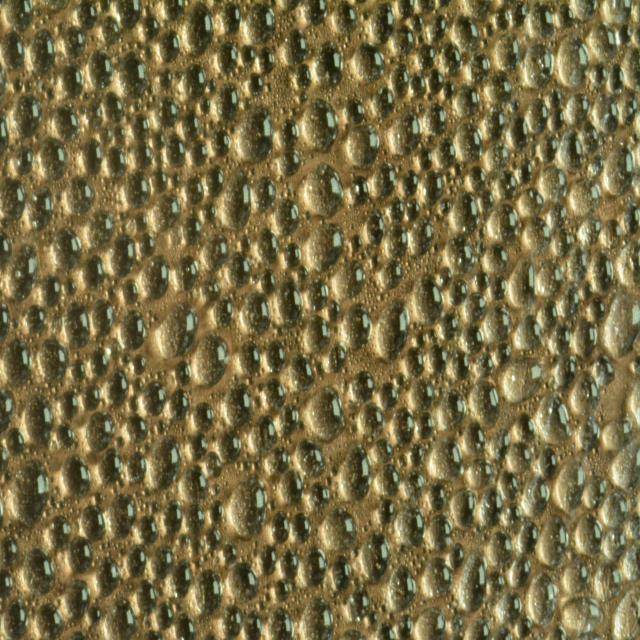dr: (604, 287, 639, 359), (230, 476, 269, 540), (13, 458, 50, 522), (158, 303, 198, 359), (190, 332, 230, 387), (304, 164, 344, 217), (375, 301, 410, 361), (238, 105, 274, 163), (306, 222, 346, 274), (308, 387, 346, 441), (302, 98, 339, 152), (458, 550, 488, 614), (535, 391, 571, 444), (182, 1, 215, 57), (502, 358, 544, 402), (340, 445, 372, 502), (7, 244, 38, 302), (222, 172, 253, 230), (537, 515, 570, 568), (150, 436, 182, 490), (557, 459, 587, 515), (559, 34, 590, 88), (360, 531, 392, 583), (603, 144, 634, 197), (347, 122, 381, 170), (321, 507, 357, 552), (610, 435, 640, 489), (341, 302, 373, 352), (562, 597, 606, 633), (428, 436, 462, 482), (24, 393, 54, 445), (104, 596, 139, 640), (24, 548, 56, 596), (412, 276, 444, 324), (388, 111, 422, 156), (528, 573, 556, 627), (301, 595, 334, 640), (315, 40, 344, 91), (51, 226, 83, 272), (239, 290, 271, 336), (614, 584, 640, 640), (244, 3, 277, 46), (119, 51, 149, 98), (3, 338, 33, 385), (470, 379, 500, 426), (509, 255, 535, 309), (38, 337, 69, 382), (449, 190, 480, 235), (141, 254, 170, 302), (524, 44, 554, 90), (521, 473, 550, 520), (485, 204, 519, 244), (569, 178, 603, 218), (276, 280, 304, 328), (354, 42, 386, 84), (388, 566, 417, 612), (571, 370, 601, 414), (13, 93, 42, 138), (195, 570, 224, 615), (295, 437, 326, 479), (30, 28, 57, 76), (110, 492, 137, 540), (225, 382, 252, 430), (453, 122, 483, 165), (40, 136, 68, 182), (333, 260, 365, 300), (422, 560, 454, 600), (63, 454, 91, 499), (228, 563, 258, 605), (299, 545, 327, 590), (0, 177, 26, 225), (27, 187, 54, 233), (574, 512, 602, 556), (64, 300, 90, 347), (86, 410, 115, 452), (64, 176, 95, 215), (394, 509, 425, 548), (110, 234, 137, 278), (153, 192, 181, 234), (484, 302, 512, 344), (484, 68, 512, 110), (445, 234, 475, 273), (522, 216, 552, 255), (94, 554, 121, 597), (412, 605, 445, 640), (119, 309, 147, 350), (65, 578, 91, 622), (409, 216, 436, 258), (249, 416, 278, 455), (514, 313, 543, 352), (589, 22, 618, 61), (87, 209, 115, 249), (304, 314, 332, 354), (3, 597, 29, 640), (0, 31, 27, 72), (592, 94, 619, 135), (202, 234, 230, 273), (214, 81, 240, 123), (596, 560, 622, 602), (67, 535, 94, 575), (452, 487, 477, 530), (538, 166, 567, 203), (617, 240, 640, 286), (283, 28, 310, 67), (88, 48, 113, 90), (559, 128, 584, 170), (124, 170, 150, 210), (98, 447, 124, 487), (370, 2, 396, 42), (36, 603, 64, 640), (358, 401, 385, 439), (536, 260, 563, 298), (589, 252, 614, 293), (289, 353, 315, 392), (440, 390, 466, 429), (480, 486, 504, 528), (574, 318, 598, 360), (53, 104, 80, 141), (454, 13, 480, 51), (217, 425, 242, 464), (428, 514, 453, 553), (349, 370, 376, 406), (487, 530, 514, 566), (392, 406, 416, 446), (602, 418, 630, 452), (602, 492, 629, 527), (81, 504, 105, 543), (496, 33, 520, 72), (532, 1, 556, 40), (581, 474, 607, 510), (266, 607, 294, 640), (260, 378, 287, 412), (331, 1, 358, 35), (151, 544, 175, 582), (276, 198, 300, 236), (182, 63, 206, 101), (496, 591, 522, 626), (373, 162, 398, 198), (410, 377, 435, 413), (61, 61, 84, 100), (92, 298, 115, 337), (38, 272, 62, 309), (384, 224, 408, 261), (140, 381, 166, 415), (507, 441, 533, 475), (454, 84, 480, 118), (346, 588, 371, 623), (602, 526, 627, 561), (525, 97, 548, 135), (4, 1, 34, 30), (228, 252, 252, 288), (175, 255, 199, 291), (185, 464, 209, 500), (466, 457, 493, 489), (331, 554, 353, 593), (423, 101, 448, 135), (82, 254, 106, 289), (508, 554, 532, 589), (136, 579, 158, 617), (578, 414, 600, 452), (375, 464, 401, 496), (564, 560, 590, 592), (365, 211, 388, 247), (279, 469, 303, 503), (566, 92, 590, 126), (372, 84, 396, 118), (392, 21, 414, 58), (484, 243, 510, 274), (518, 187, 544, 218), (577, 217, 603, 248), (239, 341, 262, 376), (82, 139, 104, 175), (559, 284, 581, 320), (483, 106, 505, 142), (324, 340, 346, 376), (303, 0, 331, 28), (63, 25, 86, 59), (257, 228, 280, 262), (306, 277, 329, 311), (489, 427, 512, 461), (517, 520, 540, 554), (464, 419, 485, 456), (464, 292, 488, 324), (495, 168, 519, 200), (381, 259, 404, 292), (403, 470, 426, 503), (163, 500, 184, 536), (165, 132, 186, 168), (603, 1, 633, 26), (49, 515, 71, 549), (126, 452, 148, 486), (254, 176, 276, 210), (469, 50, 491, 84), (24, 304, 48, 335), (106, 145, 127, 180), (126, 543, 147, 578), (213, 294, 234, 329), (182, 215, 204, 248), (422, 170, 444, 203), (223, 604, 243, 640), (218, 42, 238, 78), (461, 616, 491, 640), (486, 143, 510, 173), (169, 388, 190, 422), (221, 2, 242, 36), (513, 412, 536, 443), (600, 220, 623, 251), (57, 388, 79, 420), (158, 96, 180, 128), (462, 323, 484, 355), (537, 132, 559, 164), (552, 321, 572, 356), (442, 39, 462, 74), (185, 502, 206, 535), (125, 414, 148, 444), (161, 29, 180, 65), (76, 0, 98, 31), (390, 63, 410, 97), (534, 300, 558, 328), (308, 481, 330, 511), (279, 147, 301, 177), (509, 116, 529, 149), (624, 540, 640, 581), (104, 92, 125, 123), (174, 560, 191, 598), (499, 469, 519, 501), (595, 355, 615, 387), (278, 119, 300, 148), (14, 146, 35, 176), (193, 402, 214, 432), (291, 513, 312, 543), (348, 175, 369, 205), (378, 381, 399, 411), (404, 347, 425, 377), (102, 14, 121, 47), (280, 549, 299, 582), (581, 121, 600, 154), (427, 480, 447, 511), (280, 403, 299, 435), (430, 343, 449, 375), (429, 11, 448, 43), (188, 431, 208, 461), (343, 99, 366, 125), (540, 446, 558, 479), (156, 601, 175, 632), (448, 278, 469, 306), (553, 228, 573, 257), (623, 202, 640, 236), (182, 110, 200, 142), (184, 176, 203, 206), (258, 544, 277, 574), (1, 535, 18, 568), (139, 515, 159, 543), (282, 241, 302, 269), (474, 351, 494, 379), (272, 513, 290, 544), (440, 312, 459, 341), (452, 350, 471, 379), (132, 112, 150, 142), (174, 613, 194, 640), (377, 499, 397, 526), (257, 46, 276, 74), (294, 63, 313, 91), (372, 440, 394, 464), (574, 0, 598, 22), (86, 101, 104, 130), (212, 128, 230, 157), (468, 164, 486, 193), (610, 62, 626, 94), (174, 360, 192, 388), (205, 451, 223, 479), (142, 14, 160, 42), (417, 411, 434, 440), (122, 279, 140, 306), (57, 423, 75, 450), (190, 139, 208, 166), (490, 274, 507, 302), (418, 42, 435, 70), (387, 197, 405, 223), (401, 168, 419, 194), (409, 72, 427, 98), (512, 0, 528, 28), (205, 526, 222, 552), (248, 71, 264, 98), (259, 269, 276, 294), (274, 577, 290, 603), (494, 5, 510, 31), (558, 2, 574, 28), (139, 231, 155, 256), (486, 572, 505, 593), (591, 63, 608, 86), (449, 542, 464, 568), (496, 341, 511, 367), (326, 297, 341, 322), (1, 570, 12, 601), (158, 68, 172, 92), (474, 268, 488, 292), (202, 201, 217, 223), (211, 500, 224, 525), (406, 197, 420, 220), (223, 542, 237, 564), (618, 23, 632, 45), (396, 0, 415, 16), (88, 604, 102, 625), (242, 44, 254, 68), (132, 355, 146, 375), (136, 212, 149, 232), (440, 266, 453, 286), (350, 233, 362, 254), (483, 20, 495, 40), (369, 254, 381, 271), (415, 332, 427, 348), (12, 76, 22, 94)
